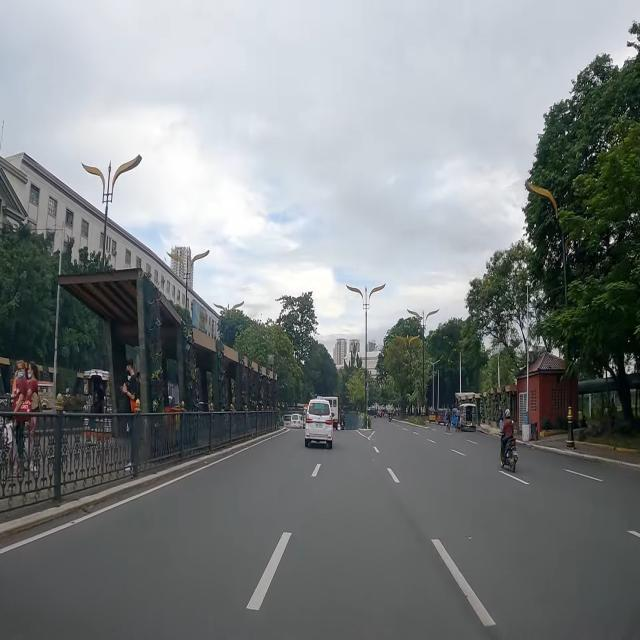bike: (446, 405, 452, 433), (456, 407, 460, 432)
car: (304, 395, 333, 451)
jeepney: (82, 368, 114, 438), (460, 404, 478, 432), (39, 381, 54, 414)
motorcycle: (500, 408, 518, 474), (339, 409, 346, 431)
tricycle: (436, 409, 444, 426), (429, 408, 436, 424)
